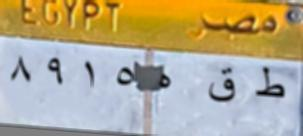1: (81, 58, 99, 94)
5: (112, 62, 136, 94)
8: (6, 52, 32, 89)
9: (44, 54, 66, 89)
Taa: (253, 64, 288, 105)
haa: (158, 69, 173, 93)
qaaf: (205, 63, 237, 108)
